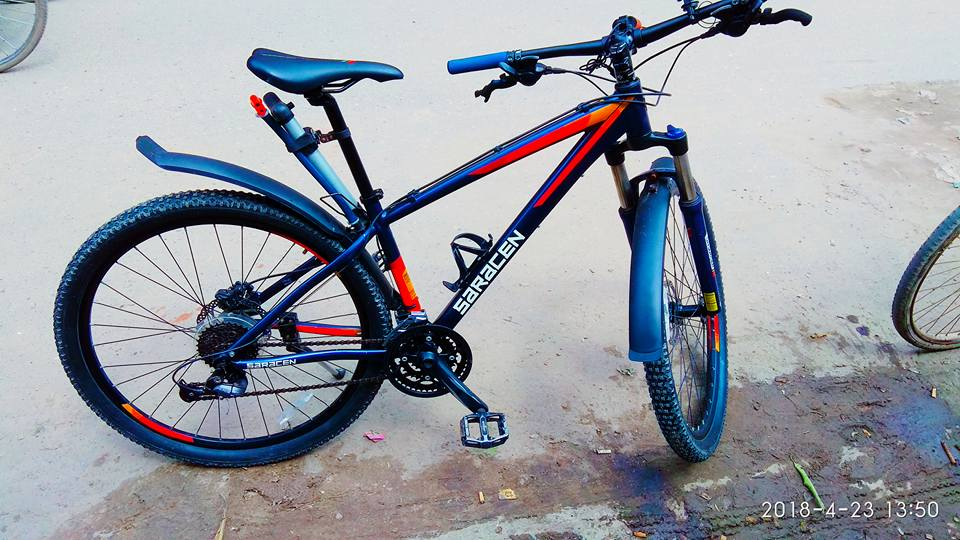bicycle: (43, 4, 819, 482)
